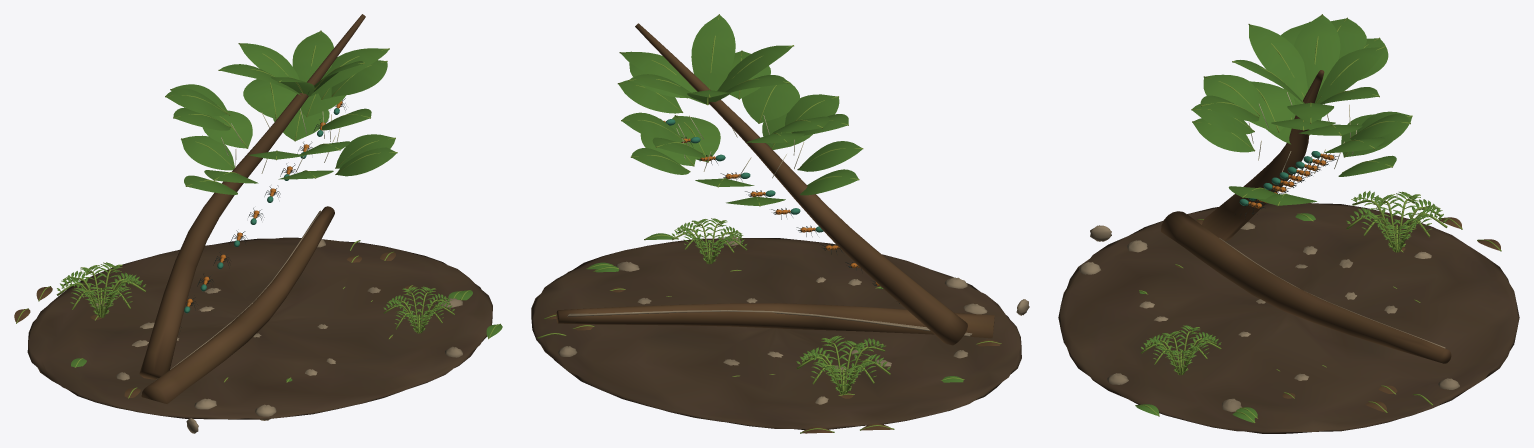
3 renders of one model, left to right at view 1: azimuth 30°, elevation 25°; view 2: azimuth 150°, elevation 25°; view 3: azimuth 270°, elevation 25°, orthographic. The views are drawn at different scales.
Visible parts, largest first — view 1: B05_SPEC_Bark_export; view 2: B05_SPEC_Bark_export; view 3: B05_SPEC_Bark_export.
Part boxes in pixels (<box>): B05_SPEC_Bark_export: <box>14,14,502,433</box>; B05_SPEC_Bark_export: <box>531,14,1029,433</box>; B05_SPEC_Bark_export: <box>1058,14,1519,433</box>.
Bounding box in the file's own units: 3 × 1.96 × 2.54.
